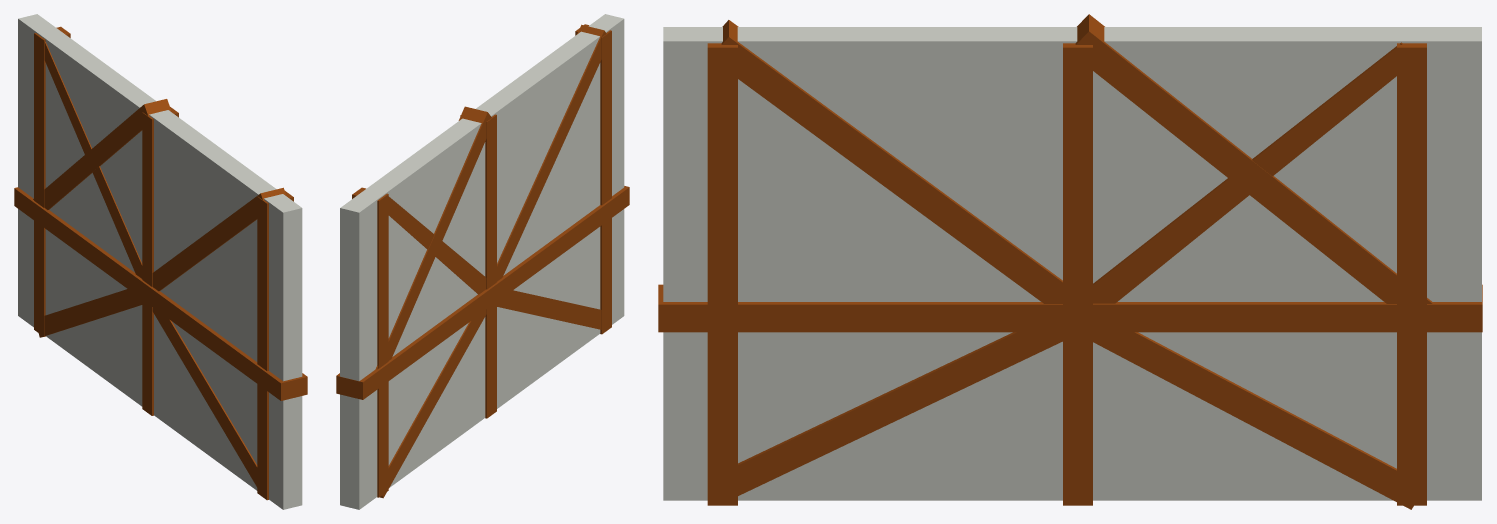
File: NormalWall6.fbx
3 views of the same model, side by side, from view 1: azimuth 30°, elevation 25°; view 2: azimuth 150°, elevation 25°; view 3: azimuth 270°, elevation 25° (orthographic). The views are drawn at different scales.
Visible parts, largest first — view 1: NormalWall6; view 2: NormalWall6; view 3: NormalWall6.
Boxes of the visible parts, bbox=[...] form: NormalWall6: bbox=[14, 14, 307, 509]; NormalWall6: bbox=[336, 14, 629, 509]; NormalWall6: bbox=[658, 14, 1482, 509].
Bounding box in the file's own units: 113 × 1157 × 1806.
